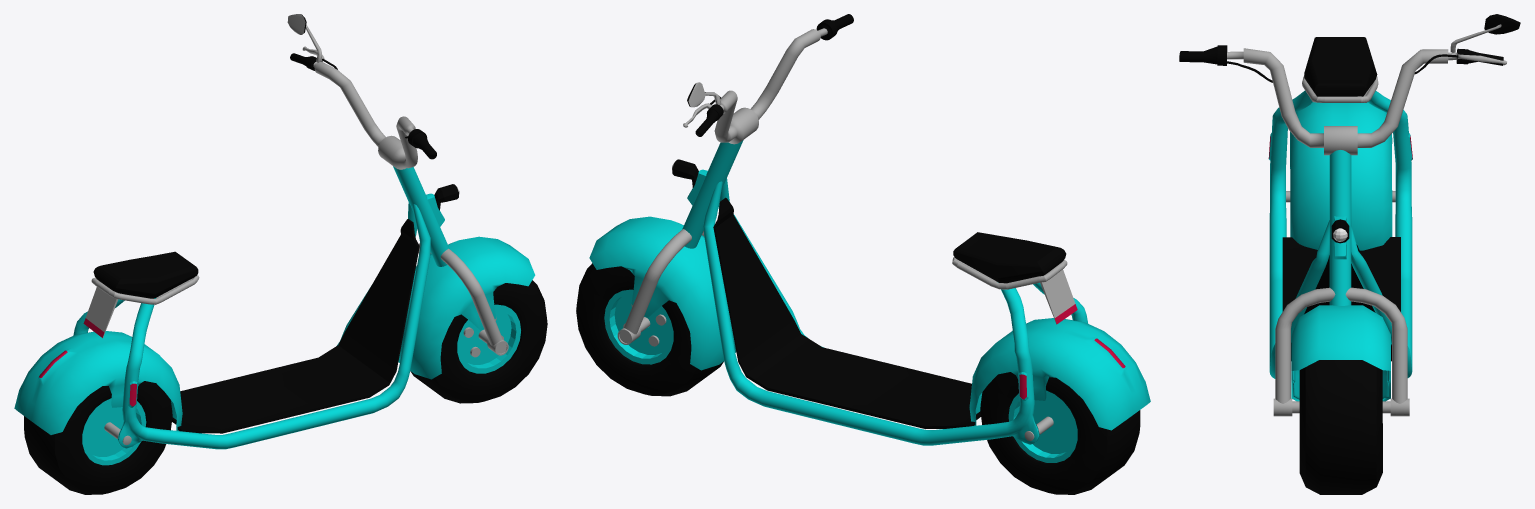
The model's file is Scrooser.fbx.
3 views of the same model, side by side, from view 1: azimuth 30°, elevation 25°; view 2: azimuth 150°, elevation 25°; view 3: azimuth 270°, elevation 25° (orthographic). The views are drawn at different scales.
Visible parts, largest first — view 1: pCube2, polySurface20, polySurface13, polySurface19, polySurface14, polySurface5, pCylinder5, pCube1, polySurface6, polySurface7, pCylinder4, pCylinder6 (+1 smaller); view 2: pCube2, polySurface13, polySurface20, polySurface19, polySurface14, polySurface5, pCylinder5, pCube1, polySurface6, polySurface7, pCylinder4, pCylinder6 (+1 smaller); view 3: polySurface5, polySurface20, polySurface13, pCylinder5, polySurface19, polySurface11, pCube2, pCube1, pCylinder4, pCylinder7, pCylinder6.
Boxes of the visible parts, x1=… form: pCube2: x1=172, y1=219, x2=419, y2=433; polySurface20: x1=14, y1=331, x2=182, y2=434; polySurface13: x1=73, y1=202, x2=430, y2=449; polySurface19: x1=398, y1=236, x2=535, y2=379; polySurface14: x1=24, y1=381, x2=172, y2=494; polySurface5: x1=410, y1=280, x2=547, y2=403; pCylinder5: x1=287, y1=14, x2=436, y2=169; pCube1: x1=93, y1=251, x2=198, y2=298; polySurface6: x1=457, y1=304, x2=520, y2=373; polySurface7: x1=82, y1=398, x2=146, y2=465; pCylinder4: x1=393, y1=166, x2=458, y2=266; pCylinder6: x1=83, y1=275, x2=199, y2=338; pCube2: x1=713, y1=197, x2=980, y2=428; polySurface13: x1=703, y1=178, x2=1087, y2=445; polySurface20: x1=969, y1=318, x2=1150, y2=430; polySurface19: x1=589, y1=216, x2=736, y2=370; polySurface14: x1=980, y1=372, x2=1140, y2=494; polySurface5: x1=576, y1=263, x2=723, y2=396; pCylinder5: x1=683, y1=14, x2=853, y2=144; pCube1: x1=953, y1=232, x2=1066, y2=283; polySurface6: x1=604, y1=289, x2=673, y2=364; polySurface7: x1=1008, y1=390, x2=1077, y2=462; pCylinder4: x1=672, y1=140, x2=743, y2=248; pCylinder6: x1=952, y1=257, x2=1077, y2=324; polySurface5: x1=1299, y1=360, x2=1382, y2=494; polySurface20: x1=1290, y1=102, x2=1392, y2=250; polySurface13: x1=1268, y1=90, x2=1412, y2=378; pCylinder5: x1=1179, y1=14, x2=1520, y2=155; polySurface19: x1=1291, y1=305, x2=1390, y2=401; polySurface11: x1=1275, y1=287, x2=1407, y2=403; pCube2: x1=1282, y1=237, x2=1400, y2=361; pCube1: x1=1304, y1=37, x2=1377, y2=96; pCylinder4: x1=1329, y1=150, x2=1351, y2=305; pCylinder7: x1=1273, y1=398, x2=1409, y2=416; pCylinder6: x1=1302, y1=75, x2=1378, y2=102.
Bounding box in the file's own units: 15.36 × 10.28 × 7.69.
